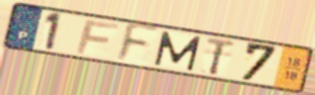1: (42, 11, 65, 52)
7: (240, 41, 279, 83)
F: (113, 21, 161, 64), (73, 19, 121, 56)
M: (152, 29, 203, 72)
T: (204, 36, 238, 77)
